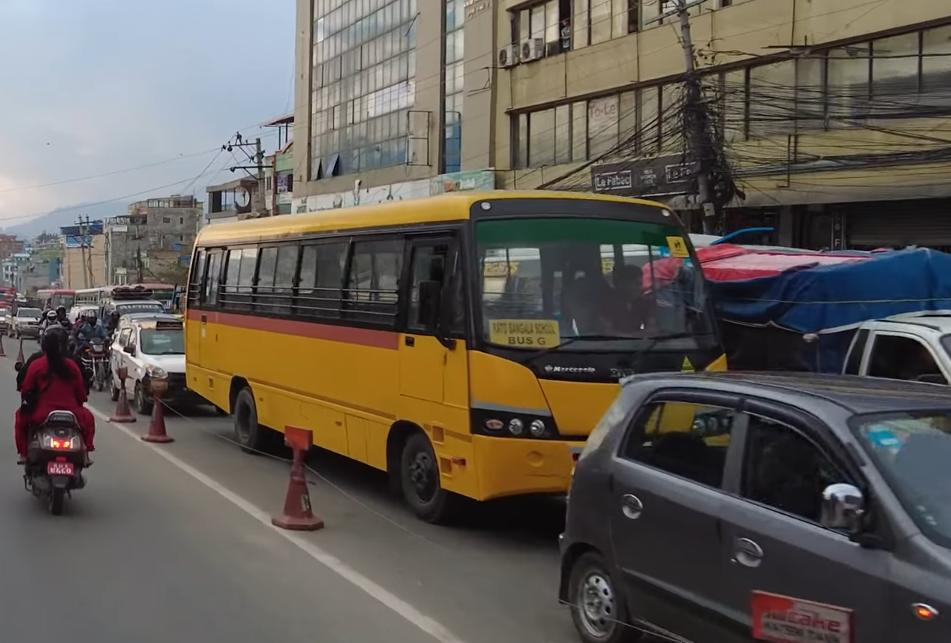car: (548, 372, 951, 643)
school_bus: (175, 185, 734, 530)
scooter: (12, 362, 101, 515)
taxi: (109, 320, 228, 421)
